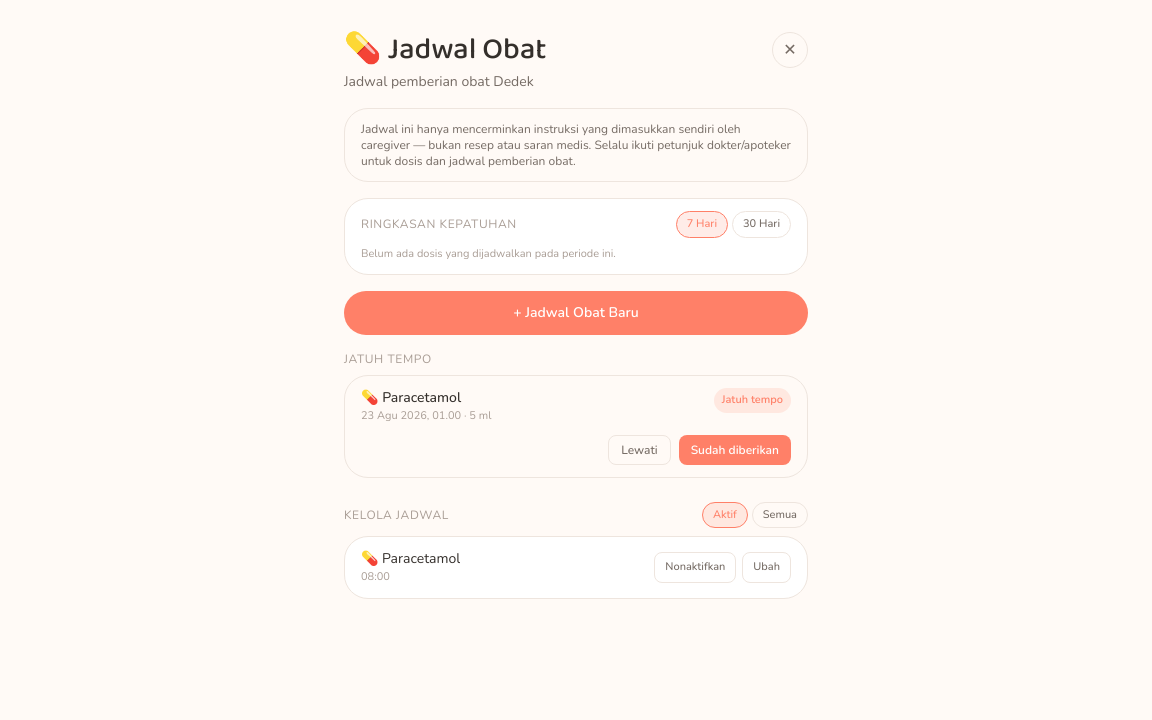
MedicationScheduleScreen — administer/skip flow › shows a pending-sync state when administering is queued offline
Click the button "Sudah diberikan" at [735, 450], box 679,434 -> 791,464
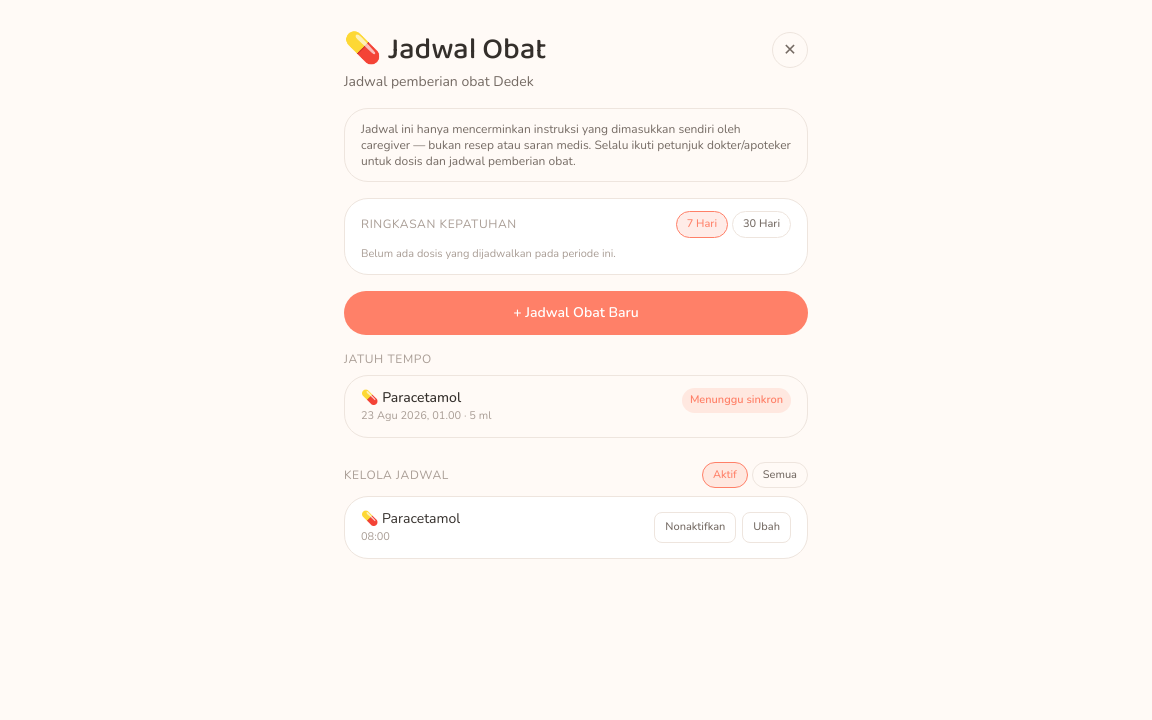
Expected: the text "Menunggu sinkron" is shown, 682,388 -> 791,412
